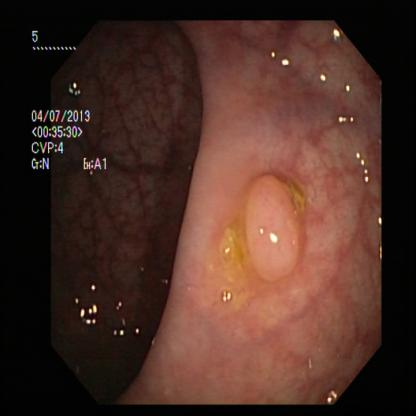Labels: (29, 20, 121, 189)
Polyps: (238, 146, 307, 298)
